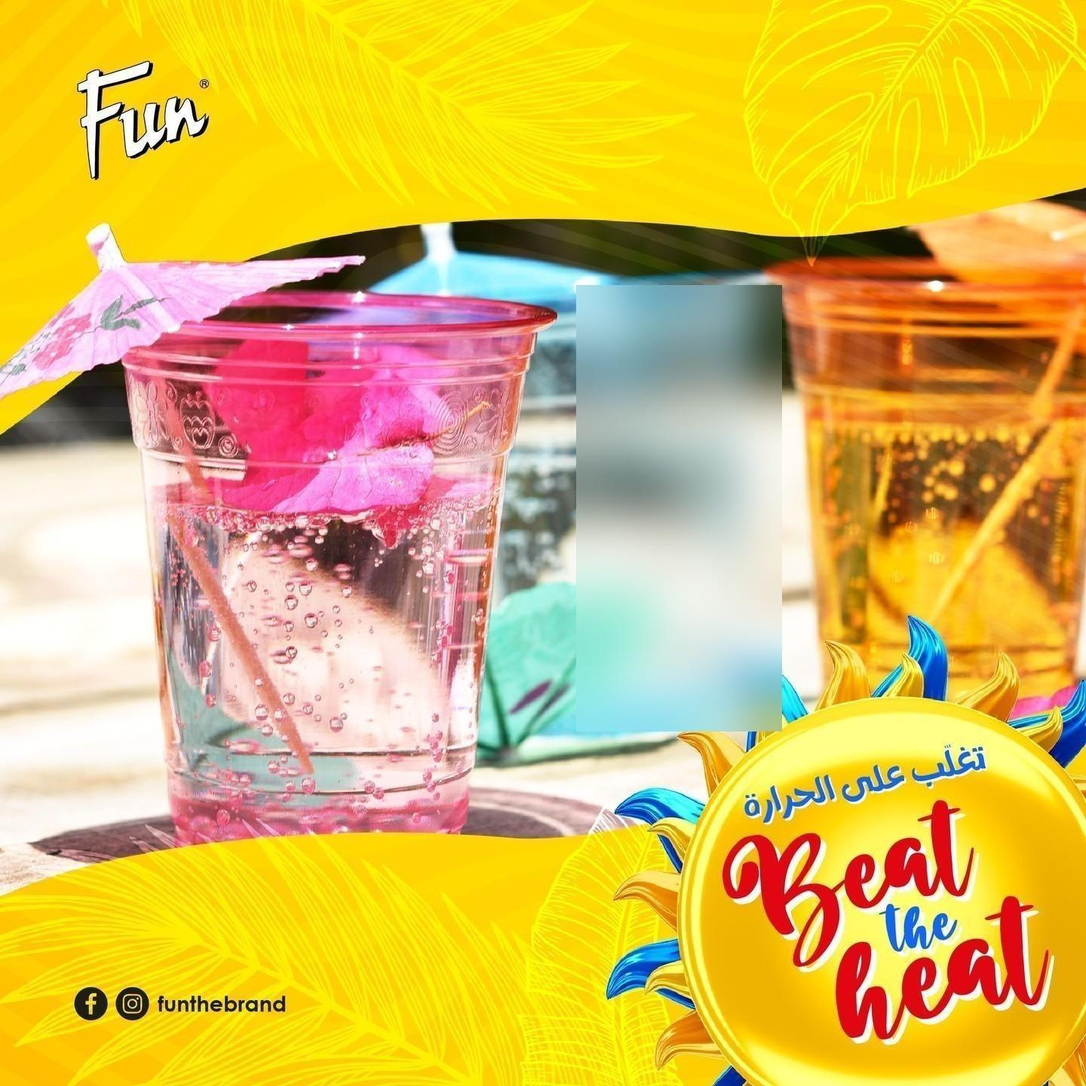cup-disposable: (102, 273, 561, 880), (768, 248, 1086, 721)
